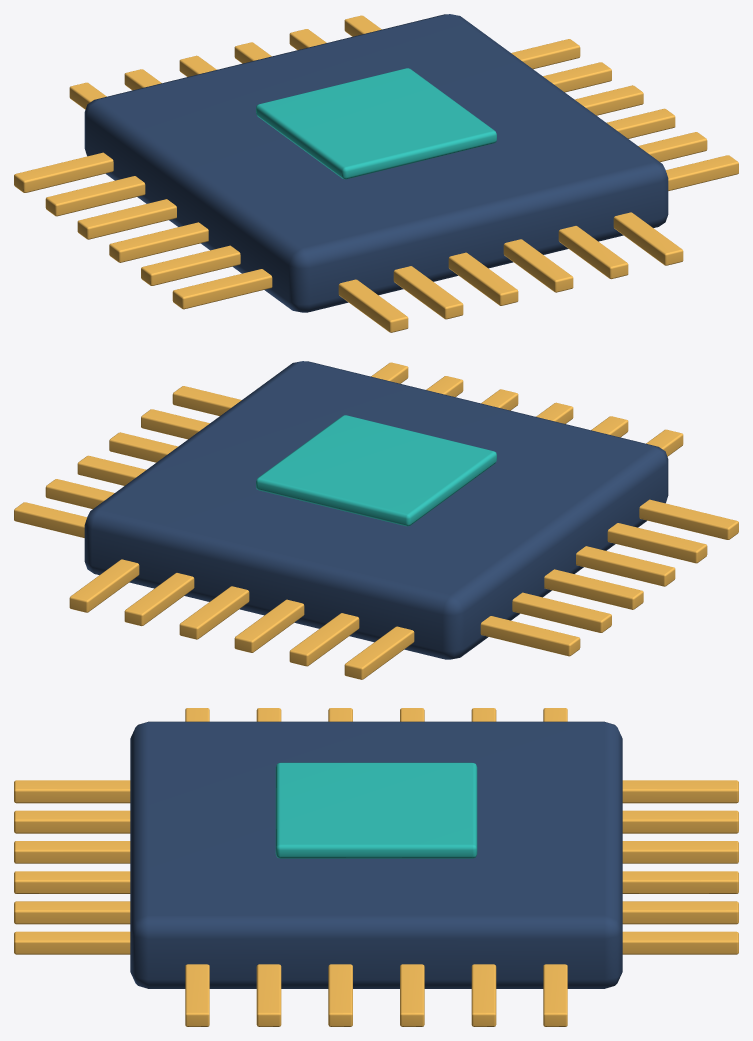
Rendered from microchip-lite.glb.
The picture shows the model from 3 angles, top to bottom: view 1: azimuth 30°, elevation 25°; view 2: azimuth 150°, elevation 25°; view 3: azimuth 270°, elevation 25°; orthographic projection. The views are drawn at different scales.
Visible parts, largest first — view 1: Microchip body; view 2: Microchip body; view 3: Microchip body.
Part boxes in pixels (<box>): Microchip body: <box>14,14,738,332</box>; Microchip body: <box>14,361,738,679</box>; Microchip body: <box>14,708,738,1026</box>.
Size of the model in its own units: 1.62 by 0.2175 by 1.62.
